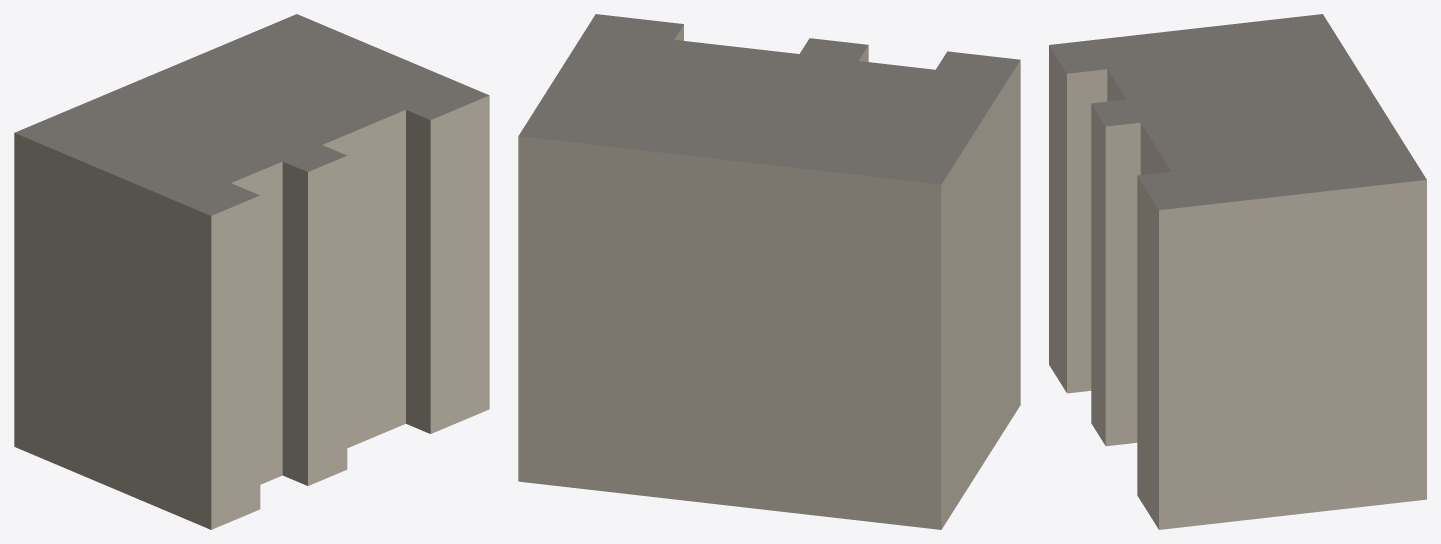
3 views of the same model, side by side, from view 1: azimuth 30°, elevation 25°; view 2: azimuth 150°, elevation 25°; view 3: azimuth 270°, elevation 25° (orthographic). The views are drawn at different scales.
Visible parts, largest first — view 1: HP-w282881398; view 2: HP-w282881398; view 3: HP-w282881398.
Part boxes in pixels (bbox=[...]): HP-w282881398: bbox=[14, 14, 489, 529]; HP-w282881398: bbox=[518, 14, 1020, 529]; HP-w282881398: bbox=[1049, 14, 1426, 529].
Bounding box in the file's own units: 23.69 × 18 × 19.28.
